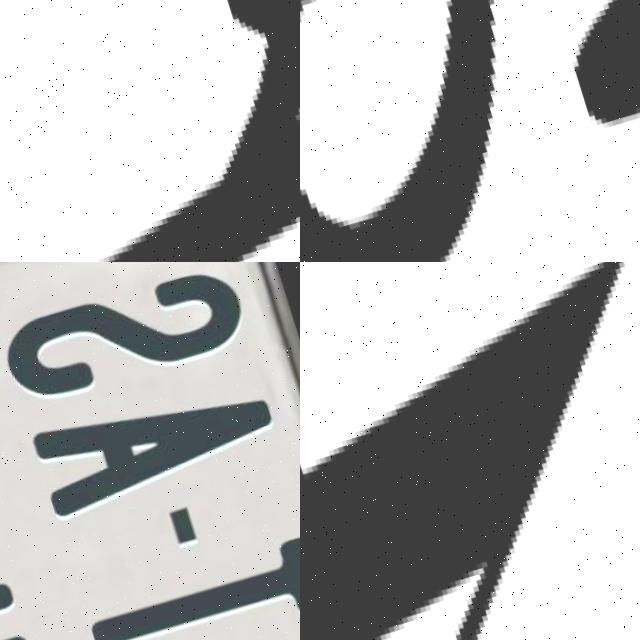A: (300, 0, 640, 262), (22, 359, 284, 524)
R: (0, 0, 300, 262)
S: (0, 262, 256, 409)
T: (76, 525, 300, 640)
